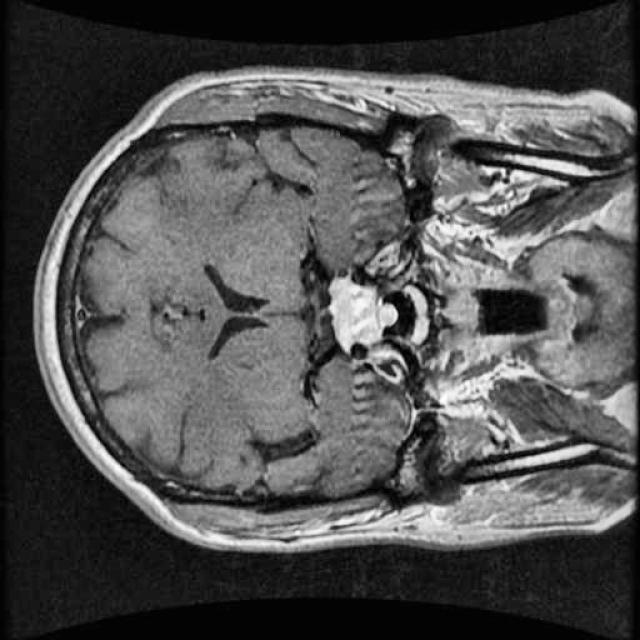Tumor: (319, 268, 405, 360)
